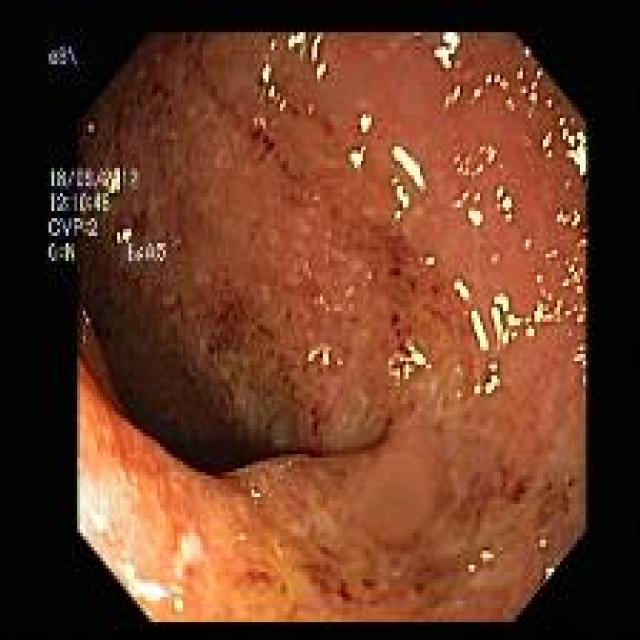ulcerative-colitis: (51, 33, 585, 622)
